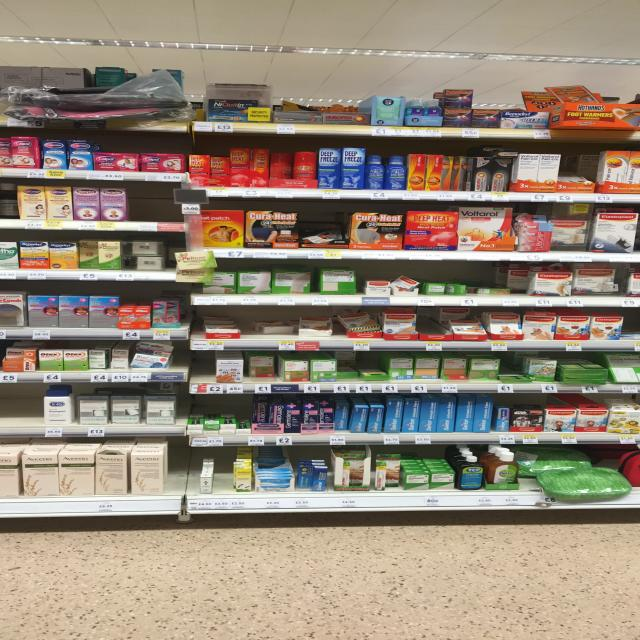empty_space: (0, 0, 23, 34), (0, 0, 50, 15), (0, 0, 48, 14), (0, 0, 14, 41), (0, 0, 15, 36), (0, 0, 24, 22), (0, 0, 14, 36), (0, 0, 13, 37), (0, 0, 13, 35), (0, 0, 13, 33), (0, 0, 9, 43), (0, 0, 10, 38), (0, 0, 14, 26), (0, 0, 15, 24), (0, 0, 10, 36), (0, 0, 9, 38), (0, 0, 9, 37), (0, 0, 9, 36), (0, 0, 10, 32), (0, 0, 11, 29), (0, 0, 9, 34), (0, 0, 11, 27), (0, 0, 8, 36), (0, 0, 7, 38), (0, 0, 11, 24), (0, 0, 12, 21), (0, 0, 8, 31), (0, 0, 9, 27), (0, 0, 8, 30), (0, 0, 10, 24), (0, 0, 8, 28), (0, 0, 14, 16), (0, 0, 7, 31), (0, 0, 6, 36), (0, 0, 9, 24), (0, 0, 8, 27), (0, 0, 7, 30), (0, 0, 8, 26), (0, 0, 6, 34), (0, 0, 12, 17), (0, 0, 7, 29), (0, 0, 8, 25), (0, 0, 9, 22), (0, 0, 6, 33), (0, 0, 7, 28), (0, 0, 4, 49), (0, 0, 8, 24), (0, 0, 5, 38), (0, 0, 11, 17), (0, 0, 5, 37), (0, 0, 8, 23), (0, 0, 7, 26), (0, 0, 6, 30), (0, 0, 8, 22), (0, 0, 5, 35), (0, 0, 7, 25), (0, 0, 9, 19), (0, 0, 5, 34), (0, 0, 10, 17), (0, 0, 6, 28), (0, 0, 7, 23), (0, 0, 5, 32), (0, 0, 6, 26), (0, 0, 9, 17), (0, 0, 8, 19), (0, 0, 5, 30), (0, 0, 8, 18), (0, 0, 4, 36), (0, 0, 5, 28), (0, 0, 4, 35), (0, 0, 7, 20), (0, 0, 4, 34), (0, 0, 8, 17), (0, 0, 7, 19), (0, 0, 12, 11), (0, 0, 4, 33), (0, 0, 13, 10), (0, 0, 4, 32), (0, 0, 9, 14), (0, 0, 7, 18), (0, 0, 6, 21), (0, 0, 5, 25), (0, 0, 6, 20), (0, 0, 10, 12), (0, 0, 8, 15), (0, 0, 7, 17), (0, 0, 6, 19), (0, 0, 4, 28), (0, 0, 7, 16), (0, 0, 10, 11), (0, 0, 4, 27), (0, 0, 6, 18), (0, 0, 3, 36), (0, 0, 7, 15), (0, 0, 4, 26), (0, 0, 3, 34), (0, 0, 3, 33), (0, 0, 5, 19), (0, 0, 4, 23), (0, 0, 3, 30), (0, 0, 7, 12), (0, 0, 3, 27), (0, 0, 7, 11), (0, 0, 4, 19), (0, 0, 3, 25), (0, 0, 4, 18), (0, 0, 10, 7), (0, 0, 3, 23), (0, 0, 3, 22), (0, 0, 5, 13), (0, 0, 5, 12), (0, 0, 2, 28), (0, 0, 2, 27), (0, 0, 5, 9), (0, 0, 7, 5), (0, 0, 3, 10), (0, 0, 5, 4), (0, 0, 4, 5), (0, 0, 4, 4)
